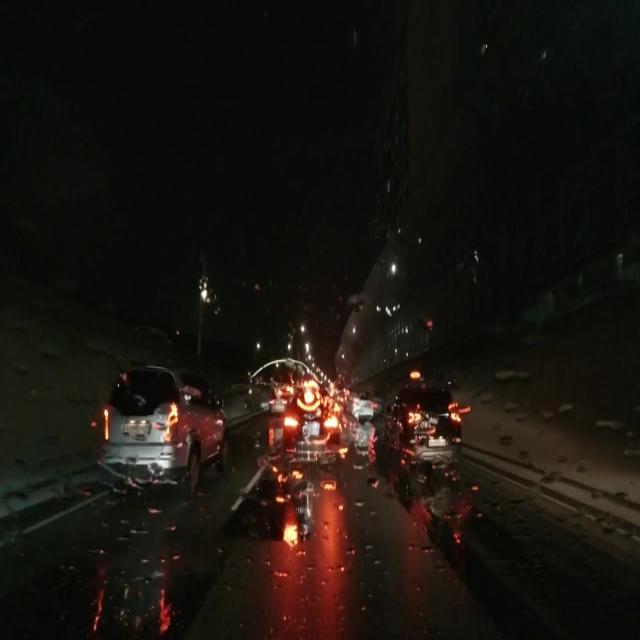Car: (95, 366, 227, 490), (279, 375, 339, 470), (383, 392, 458, 467), (350, 387, 373, 416)
